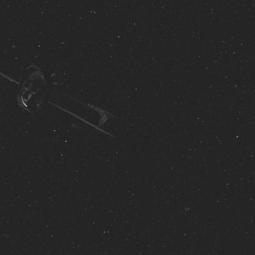xmm_newton: (3, 49, 140, 166)
